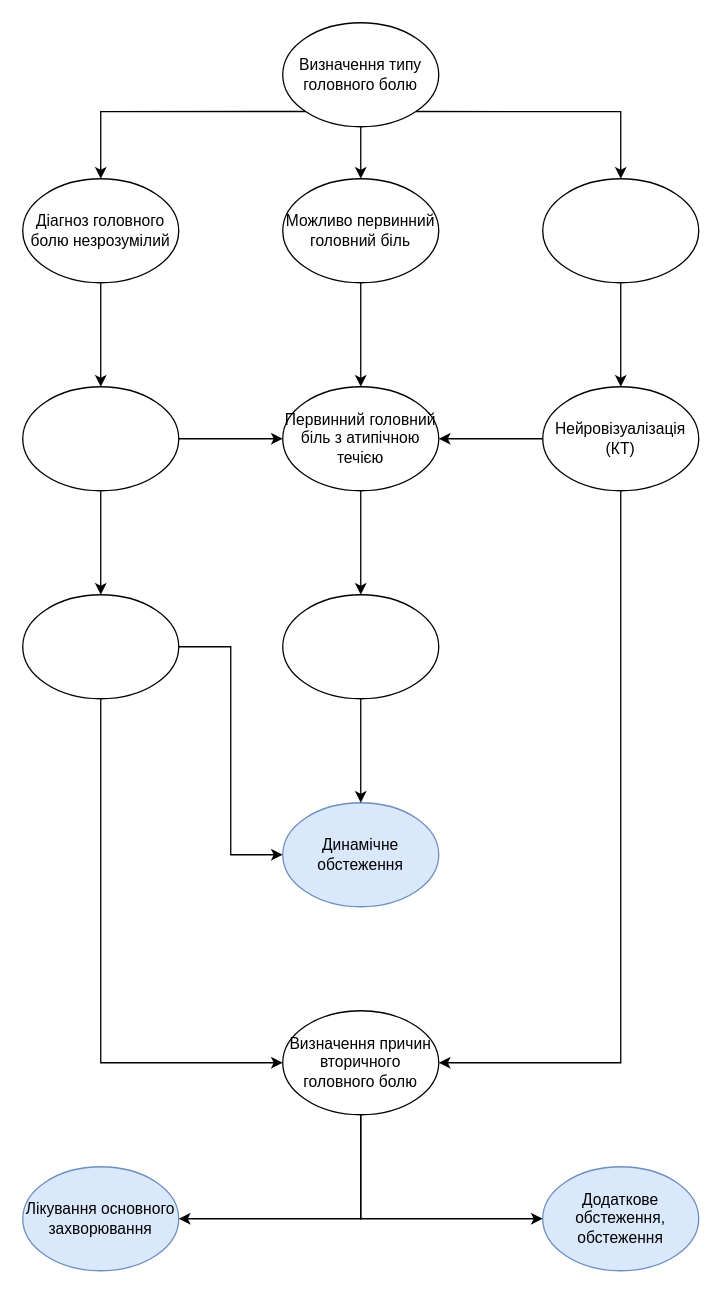
Some shapes in this 722 by 1294 pixel diagram are drawn without their labels. The shapes that lost their labels are listed below. From the top down, each one's box as (x1, y1, x2, y2) in pixels, then its label:
(541, 177, 699, 283): Громоподібний головний біль
(21, 385, 179, 491): Симптоми "красні флажки", окрім раптового початку
(21, 593, 179, 699): Нейровізуалізація (МРТ)
(281, 593, 439, 699): Інші покази
